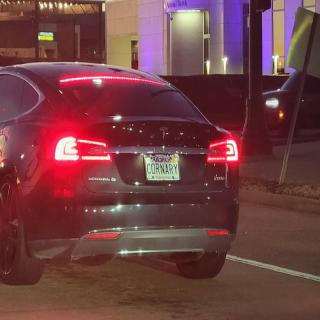license: (144, 154, 183, 183)
